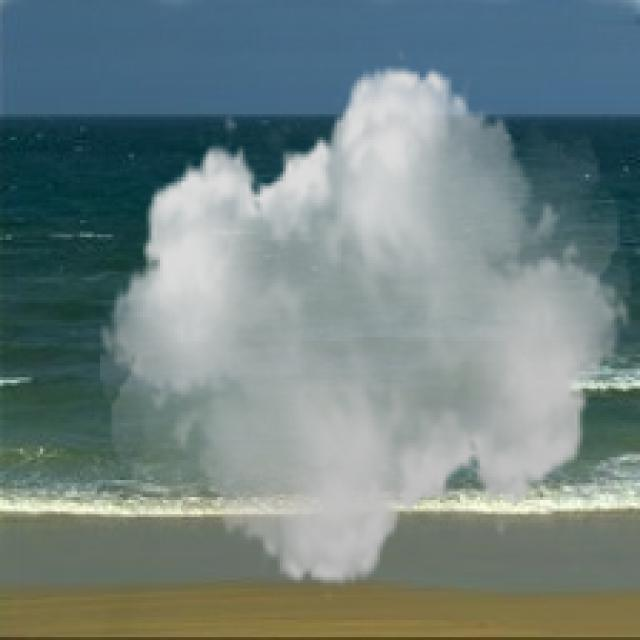Smoke: (99, 45, 632, 606)
